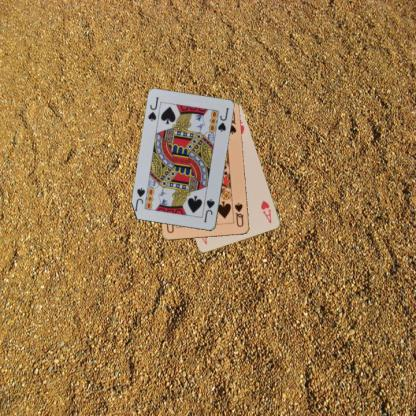Ah: (258, 198, 273, 224)
Js: (201, 196, 216, 224), (146, 95, 160, 122)
Qs: (232, 201, 245, 228)
